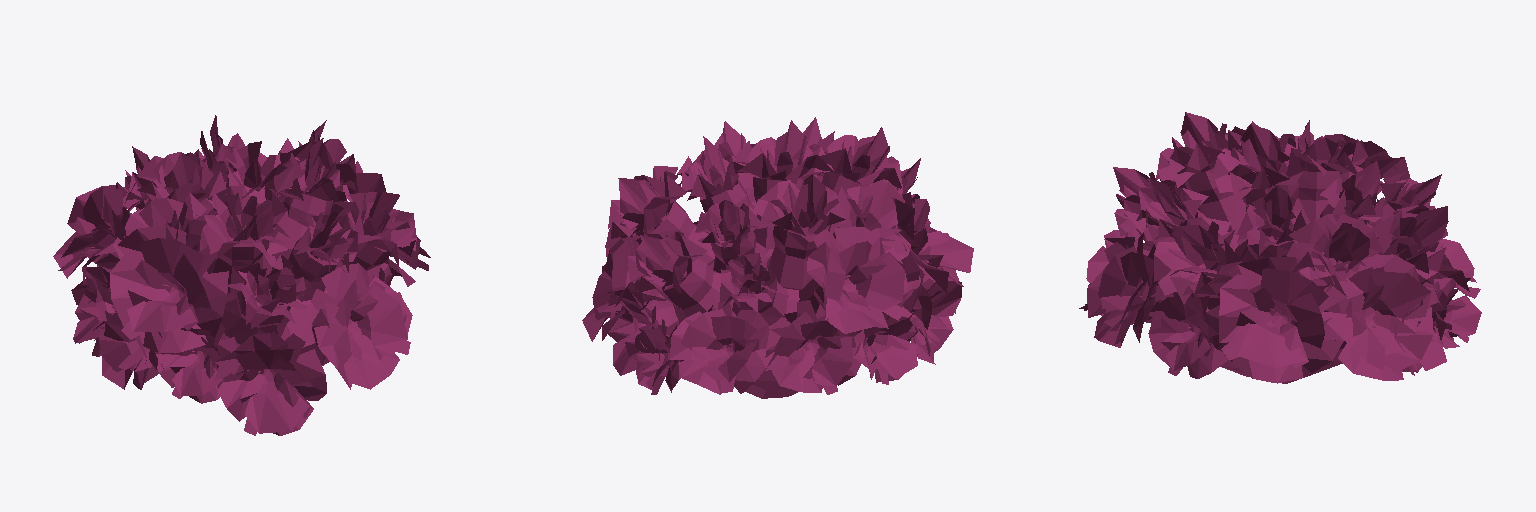
The model's file is Object_EleganceCoral2.obj.
3 views of the same model, side by side, from view 1: azimuth 30°, elevation 25°; view 2: azimuth 150°, elevation 25°; view 3: azimuth 270°, elevation 25° (orthographic).
Parts seen in each view (by area): view 1: Elegance_Coral2; view 2: Elegance_Coral2; view 3: Elegance_Coral2.
Boxes of the visible parts, box(x1,y1,x2,y2) form: Elegance_Coral2: box(53, 115, 430, 435); Elegance_Coral2: box(582, 117, 973, 398); Elegance_Coral2: box(1079, 112, 1481, 383).
Size of the model in its own units: 1.08 by 0.8008 by 1.15.